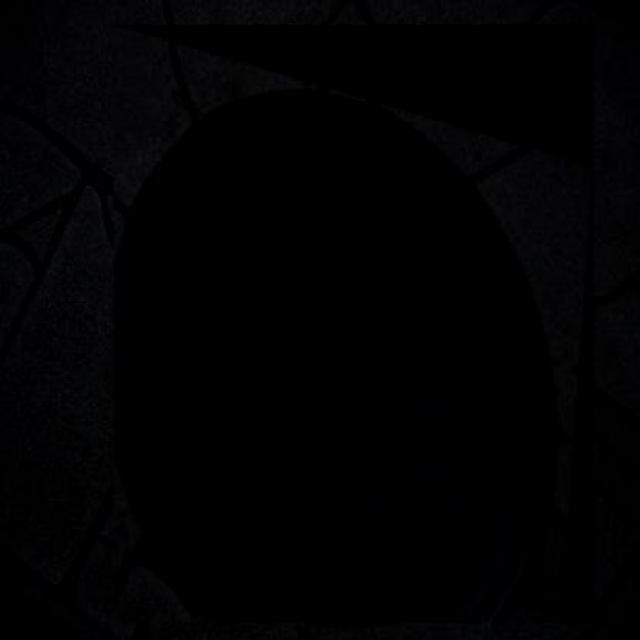Manhole: (114, 24, 594, 624)
